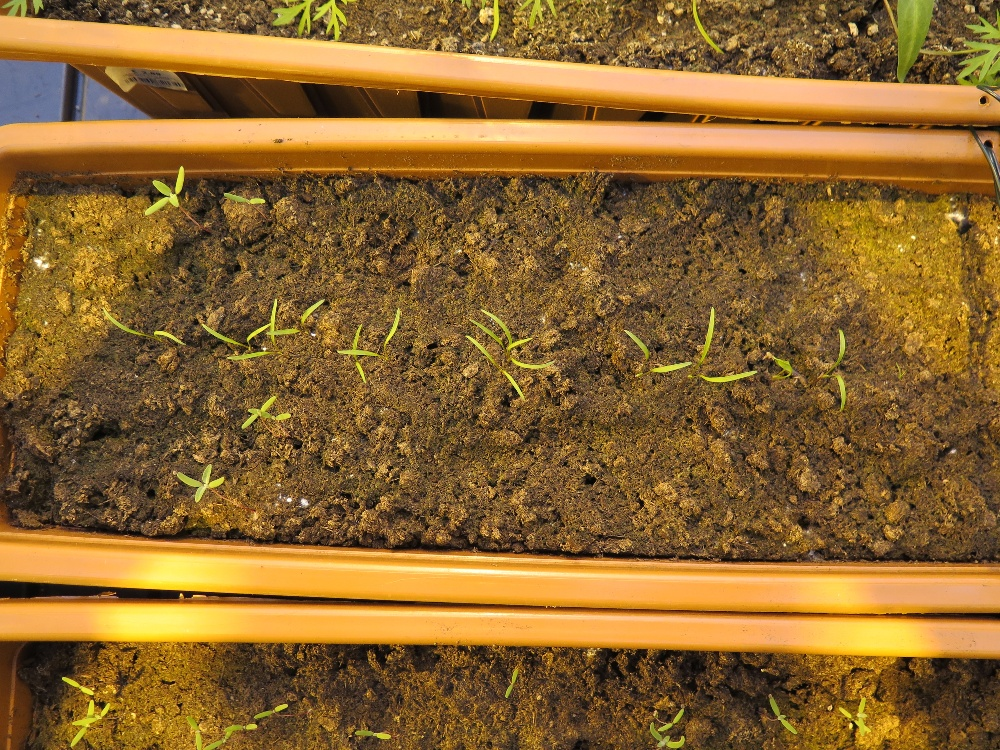crop: (677, 295, 766, 395), (468, 304, 575, 381), (434, 331, 537, 401), (757, 340, 866, 406), (191, 304, 284, 370), (100, 295, 193, 354), (327, 324, 391, 383), (271, 290, 334, 349), (618, 336, 689, 383), (371, 311, 416, 356)
weed: (48, 670, 114, 750), (143, 170, 216, 233), (623, 690, 700, 749), (232, 386, 307, 445), (175, 704, 257, 747), (750, 683, 798, 745), (209, 183, 271, 226), (173, 465, 241, 504), (230, 688, 293, 726), (825, 692, 877, 738), (352, 715, 409, 750), (637, 720, 677, 750)
